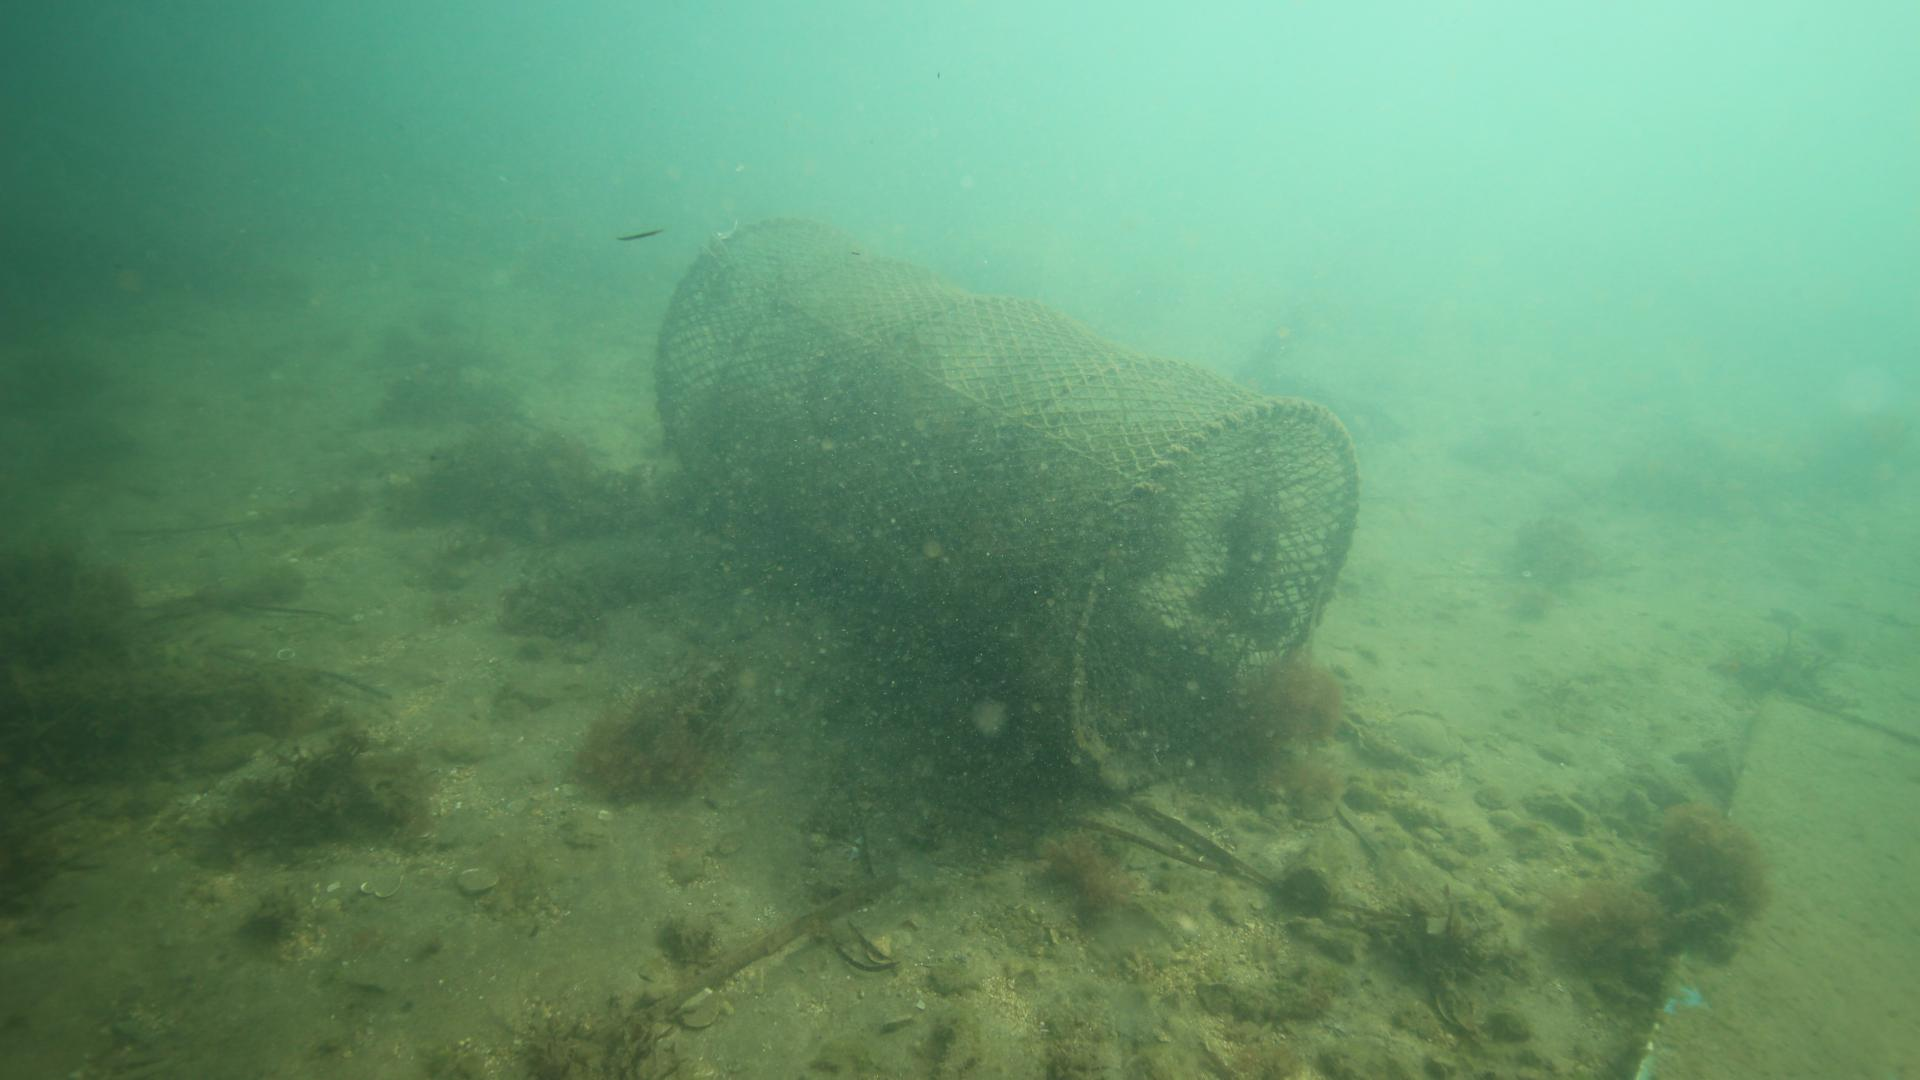spring fish trap: (653, 211, 1361, 789)
